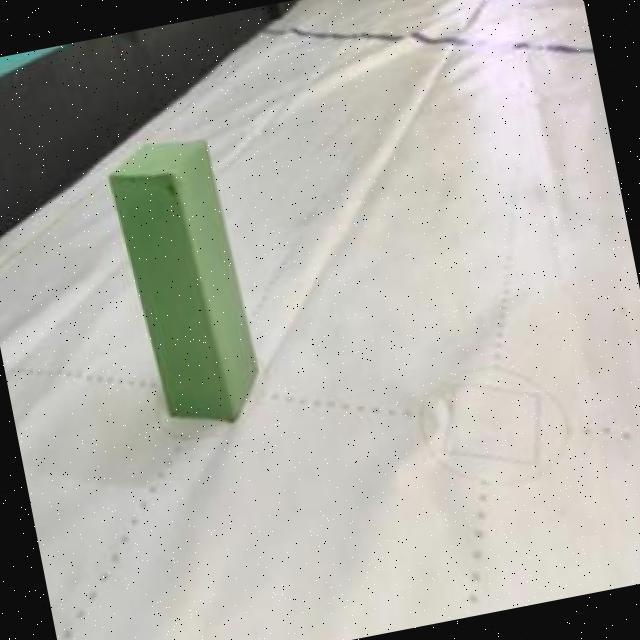greenbox: (97, 128, 264, 438)
